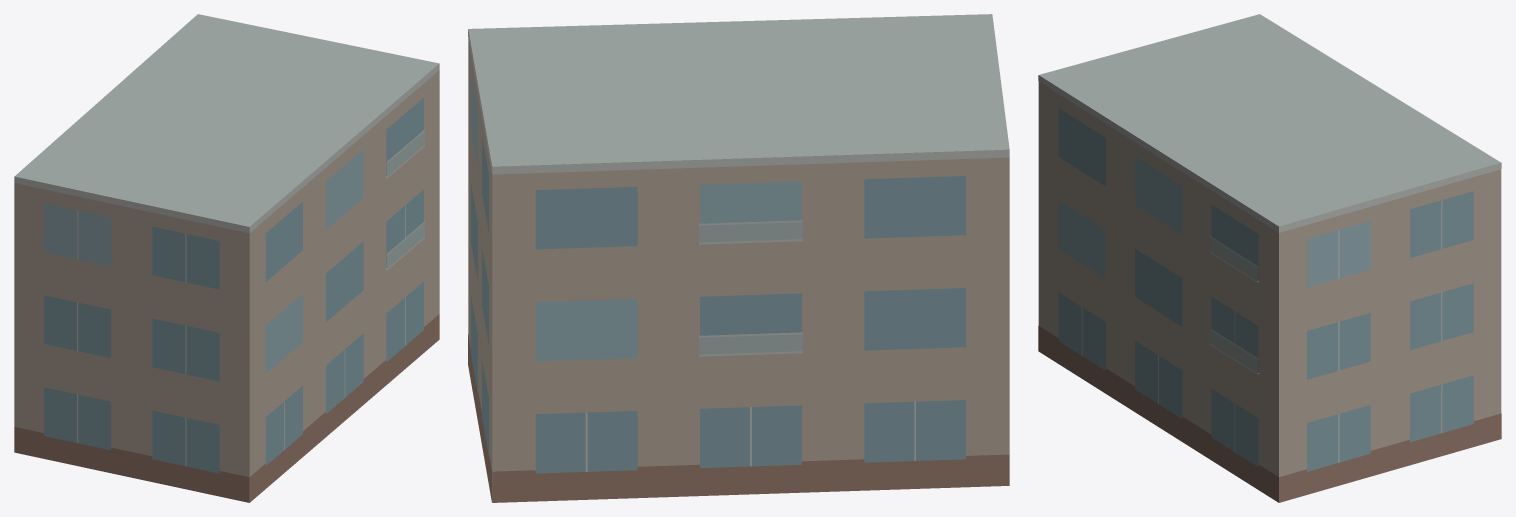
The model's file is survey-upis-32886889.glb.
3 views of the same model, side by side, from view 1: azimuth 30°, elevation 25°; view 2: azimuth 150°, elevation 25°; view 3: azimuth 270°, elevation 25° (orthographic). The views are drawn at different scales.
Visible parts, largest first — view 1: survey-upis-32886889.tmp; view 2: survey-upis-32886889.tmp; view 3: survey-upis-32886889.tmp.
Boxes of the visible parts, <box> form: survey-upis-32886889.tmp: <box>14,14,439,502</box>; survey-upis-32886889.tmp: <box>468,14,1009,502</box>; survey-upis-32886889.tmp: <box>1038,14,1501,502</box>.
Bounding box in the file's own units: 17.33 × 10.5 × 15.95.
